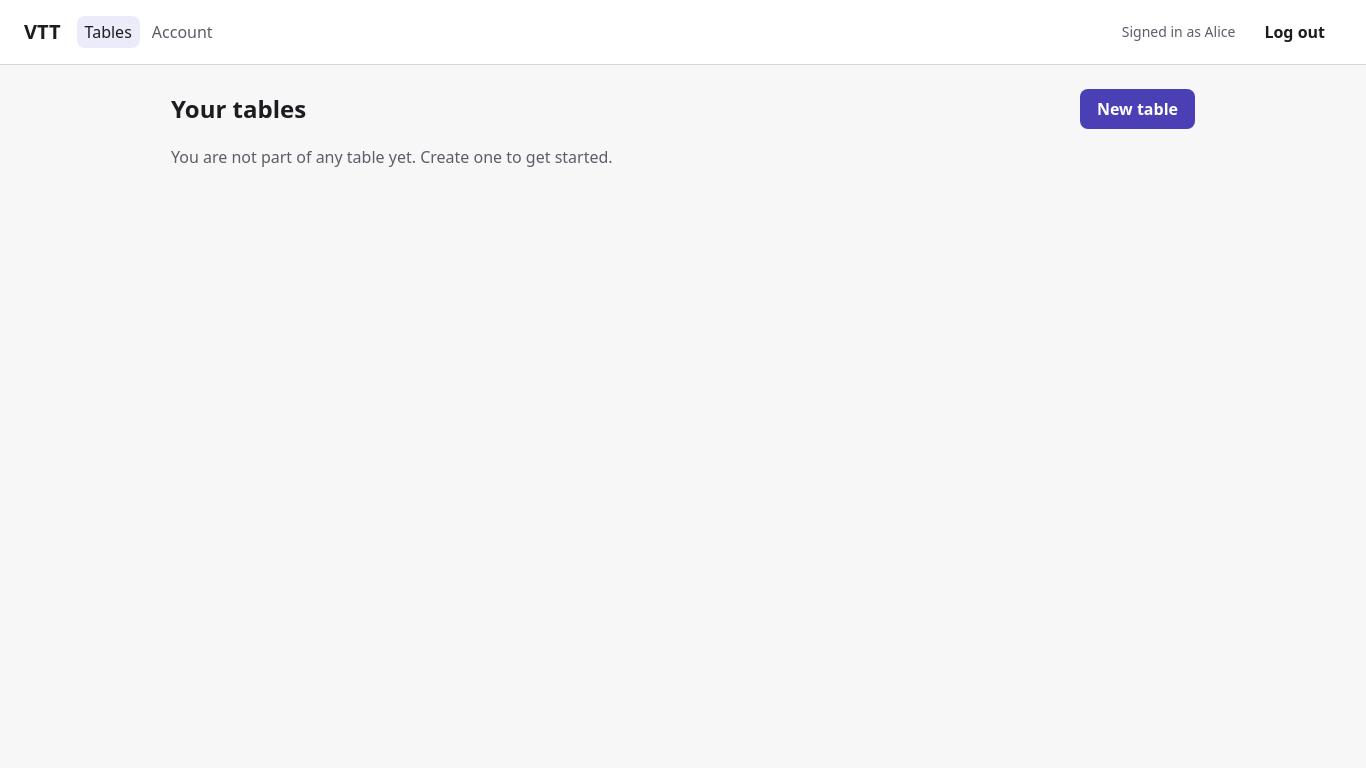
Test: tables (FR-TABLE-01) › creates a table from the dialog and refreshes the list
The image size is (1366, 768).
Expected: the text "not part of any table" is shown, left=171, top=146, right=613, bottom=168
Click the button "New table" at (1137, 109), box left=1080, top=89, right=1195, bottom=129
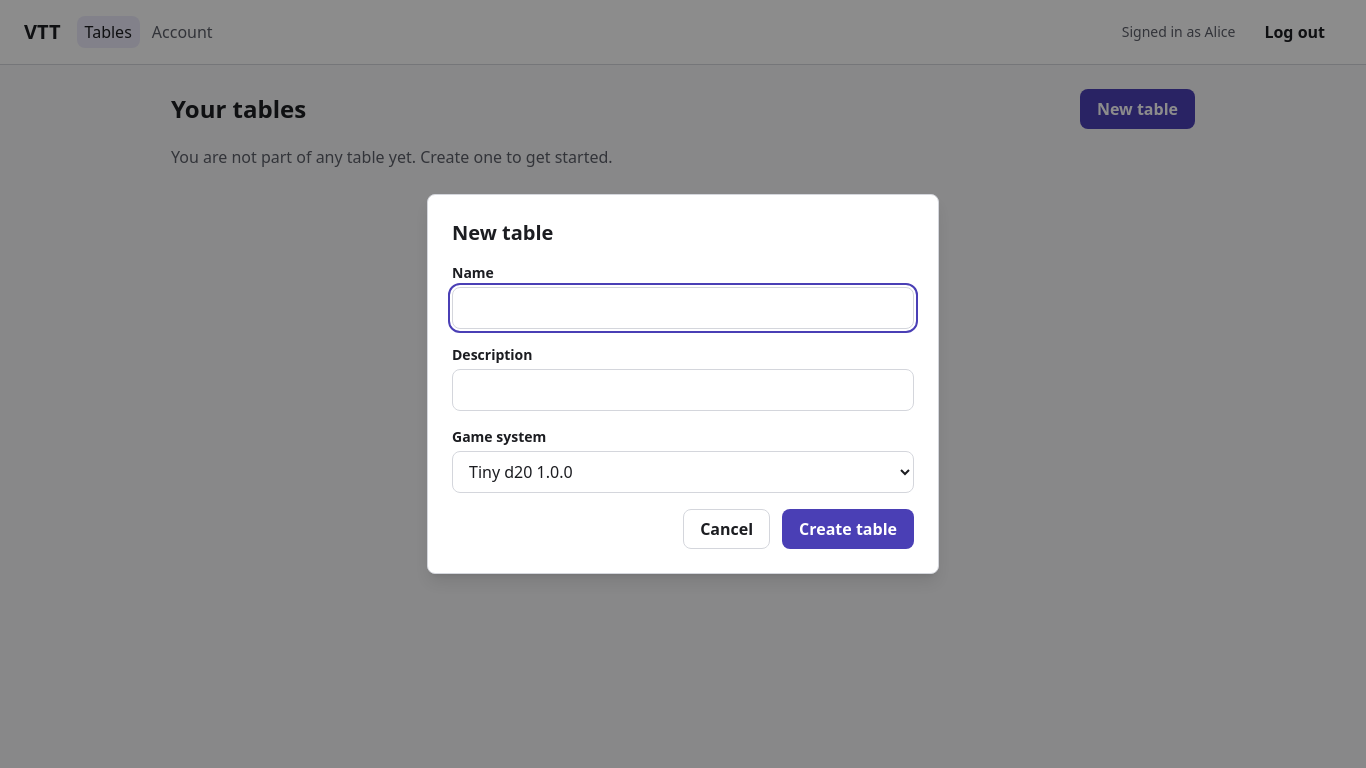
Expected: the dropdown labelled "Game system" shows "Tiny d20 1.0.0", left=452, top=451, right=914, bottom=493
Type "Crimson Throne" into the field labelled "Name" at (683, 308), box left=452, top=287, right=914, bottom=329
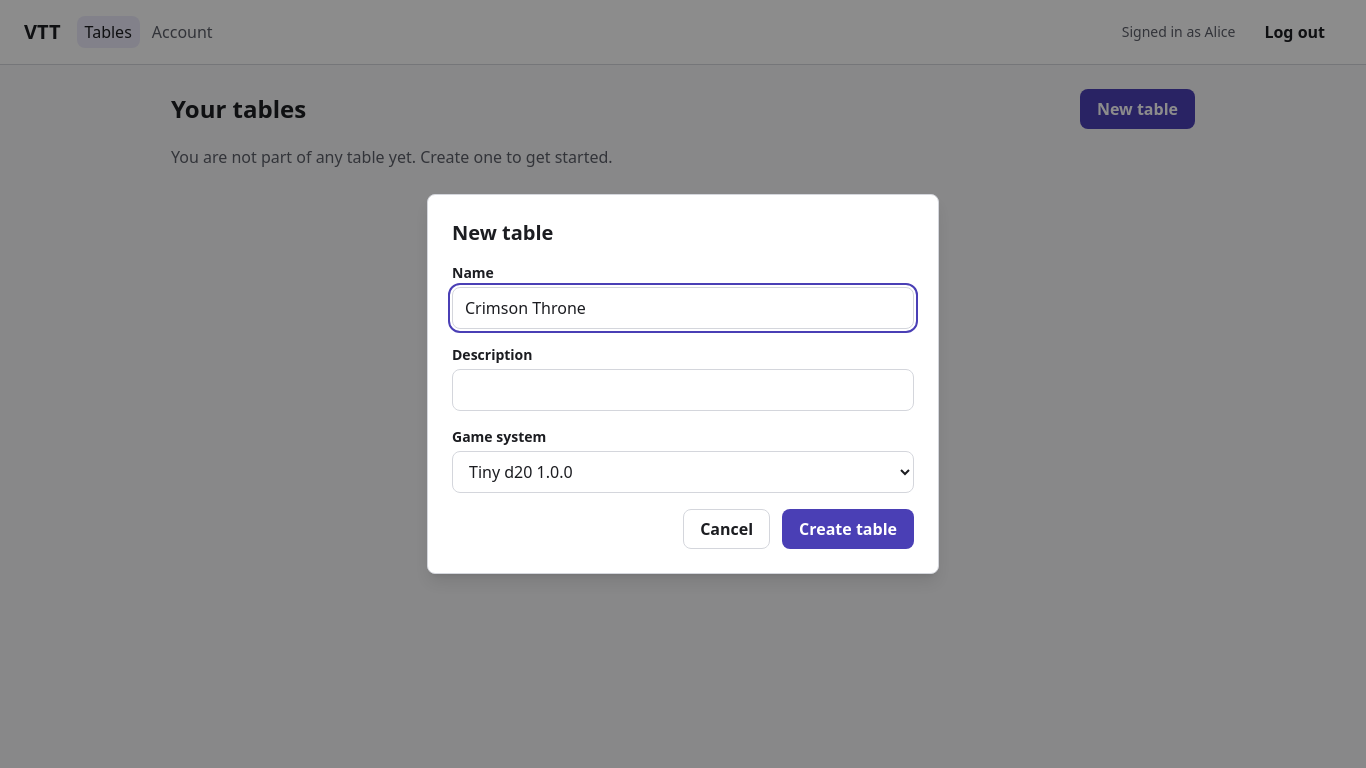
Click the button "Create table" at (848, 529), box left=782, top=509, right=914, bottom=549
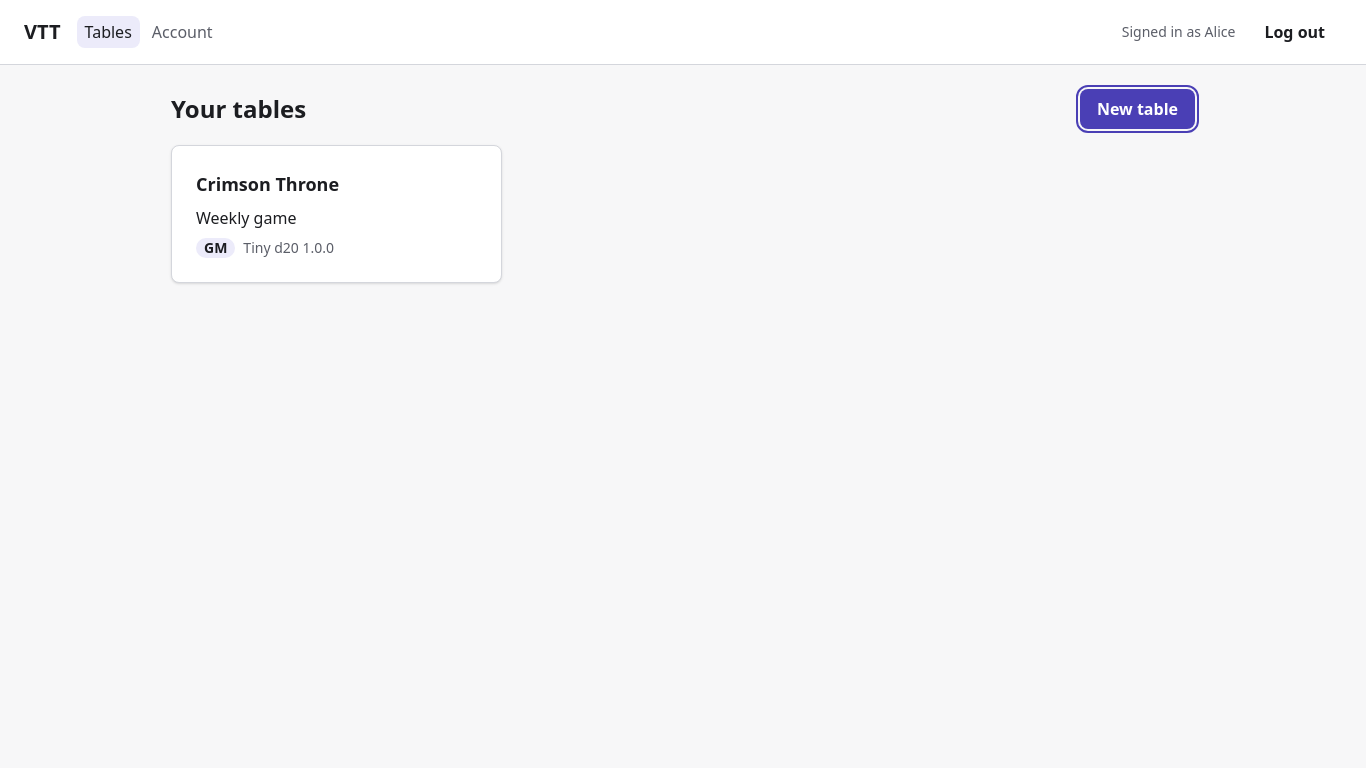
Expected: the heading "Crimson Throne" is shown, left=196, top=172, right=339, bottom=196
